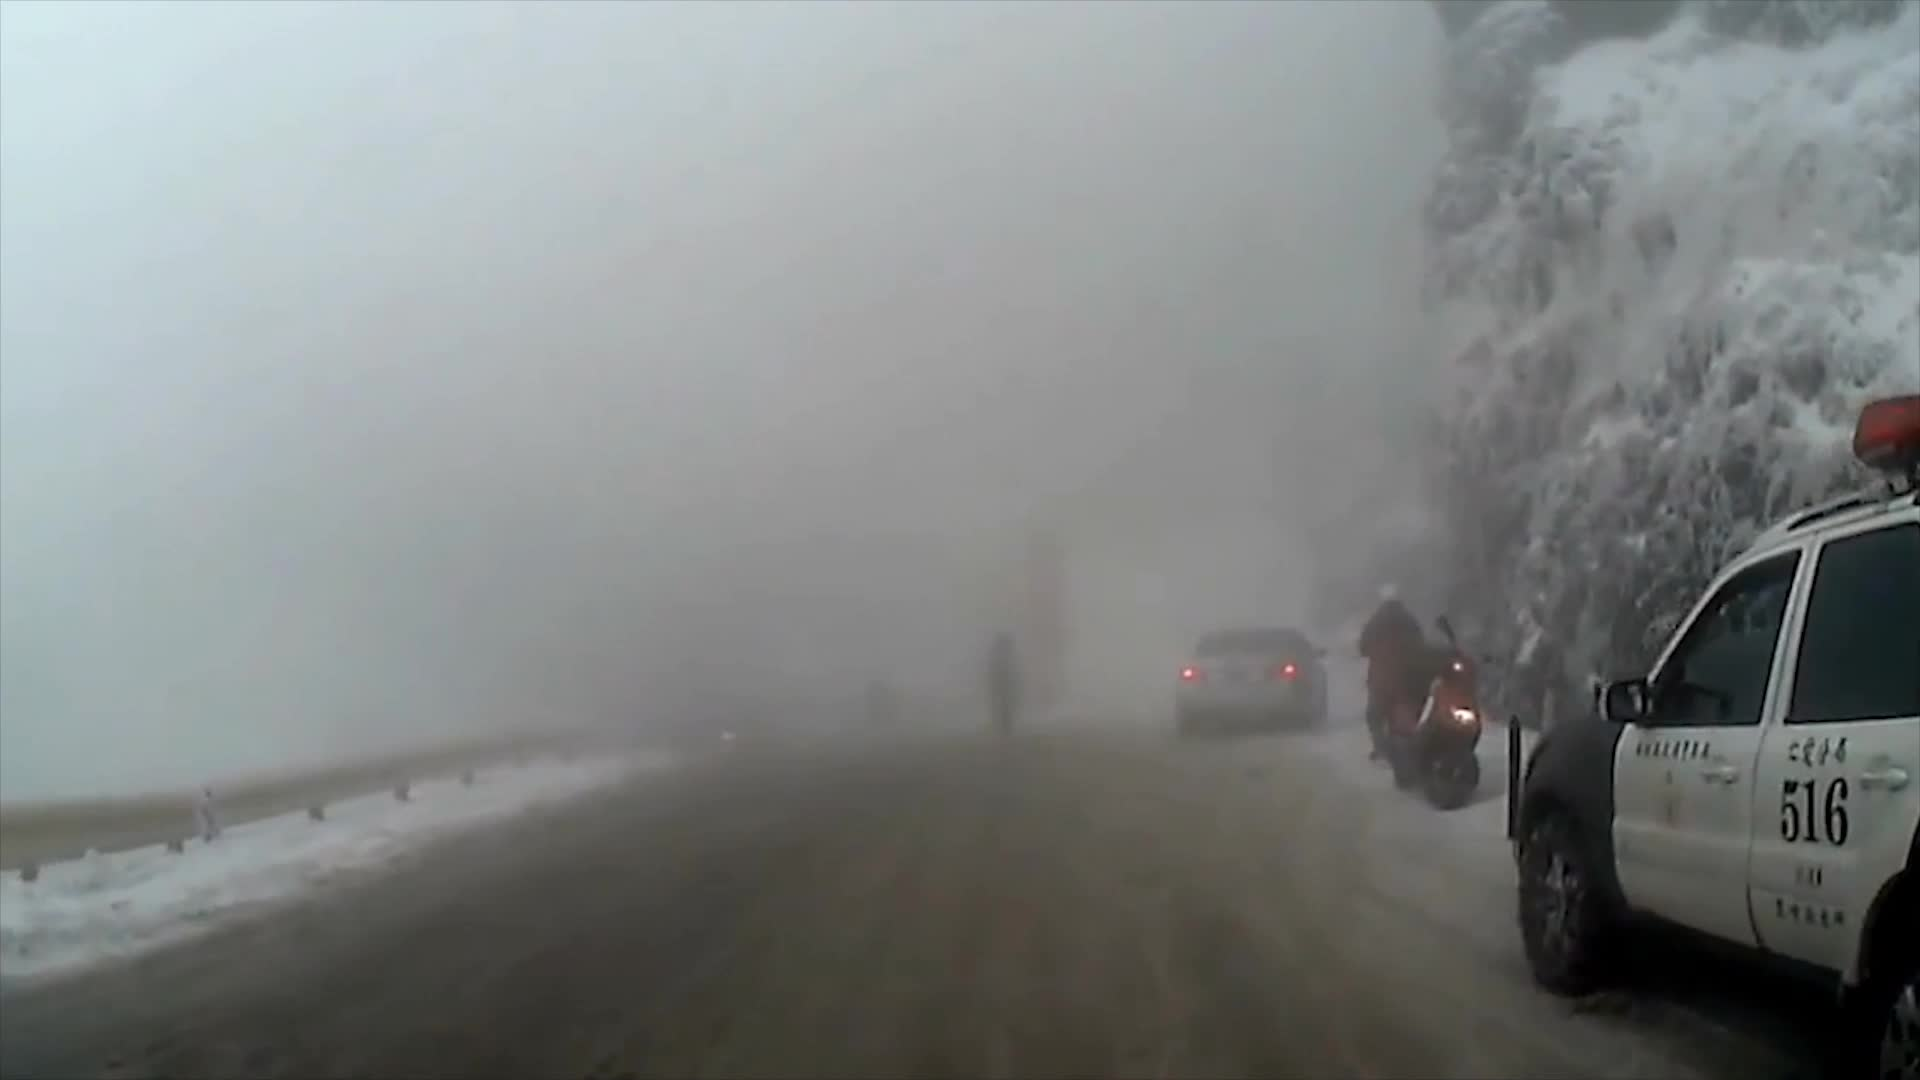pedestrian: (1348, 583, 1431, 762), (988, 630, 1022, 751)
vehicle: (1508, 392, 1915, 1080), (1174, 623, 1331, 741)
